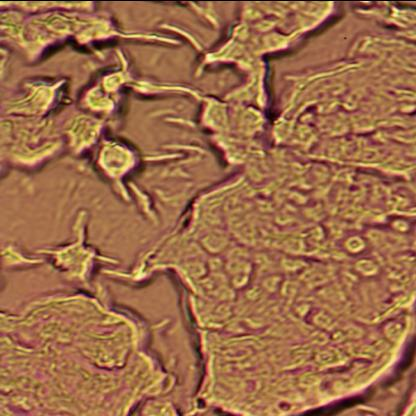Stage I: (146, 15, 416, 416), (0, 302, 174, 416)
